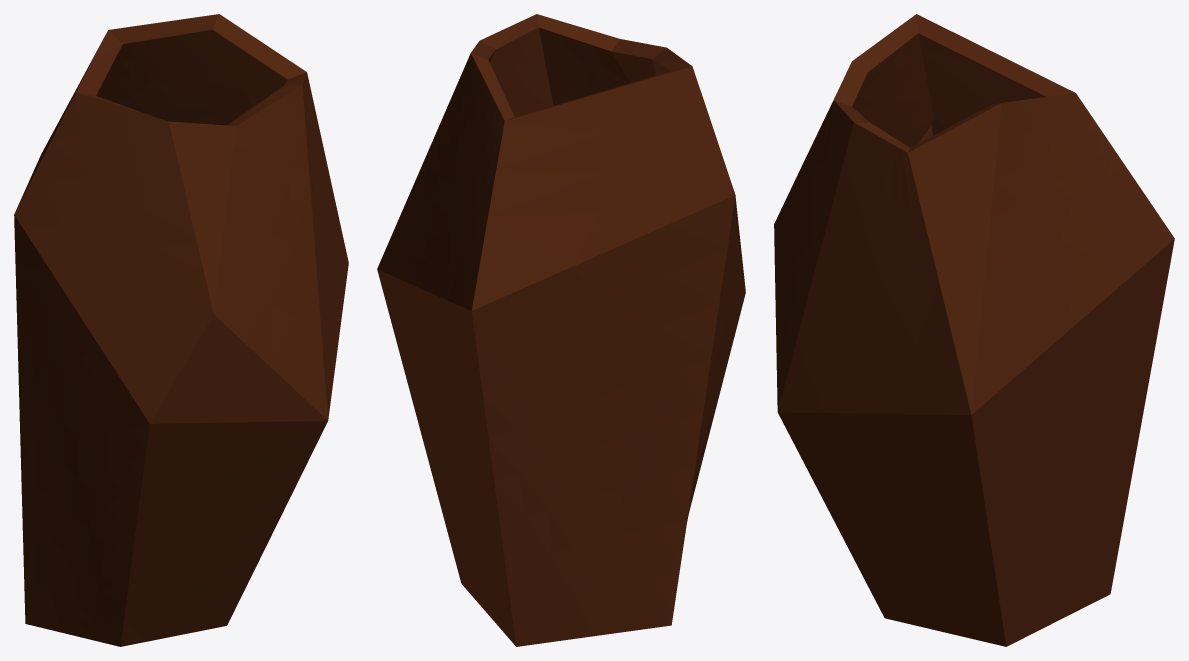
3 renders of one model, left to right at view 1: azimuth 30°, elevation 25°; view 2: azimuth 150°, elevation 25°; view 3: azimuth 270°, elevation 25°, orthographic. The views are drawn at different scales.
Visible parts, largest first — view 1: Без названия; view 2: Без названия; view 3: Без названия.
Boxes of the visible parts, x1,y1,x2,y2 form: Без названия: (14, 14, 348, 646); Без названия: (377, 14, 745, 646); Без названия: (774, 14, 1174, 646).
Size of the model in its own units: 0.1677 by 0.2507 by 0.1685.
